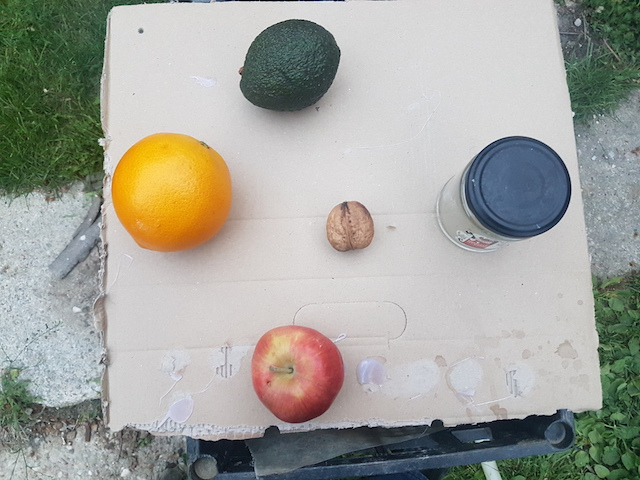apple: (251, 320, 346, 426)
avocado: (237, 17, 343, 111)
nut: (323, 199, 382, 253)
orange: (111, 131, 237, 253)
recipient: (463, 134, 571, 237)
